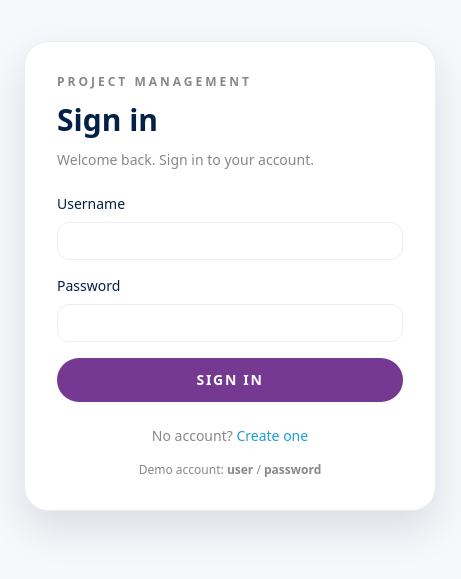
Test case: Home auth flow › shows register form when switching to create account
This screenshot has width=461, height=579.
Click the button "Create one" at (272, 436), box [236,426,308,446]
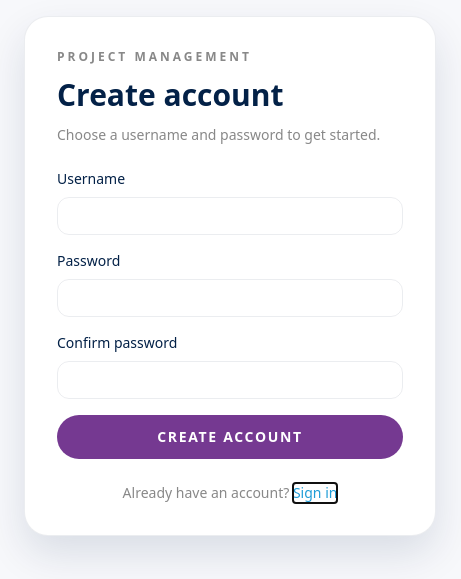
Now the heading "Create account" is shown, box [57,74,284,115]
